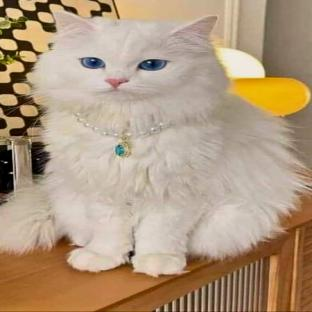Animal: (1, 11, 306, 276)
